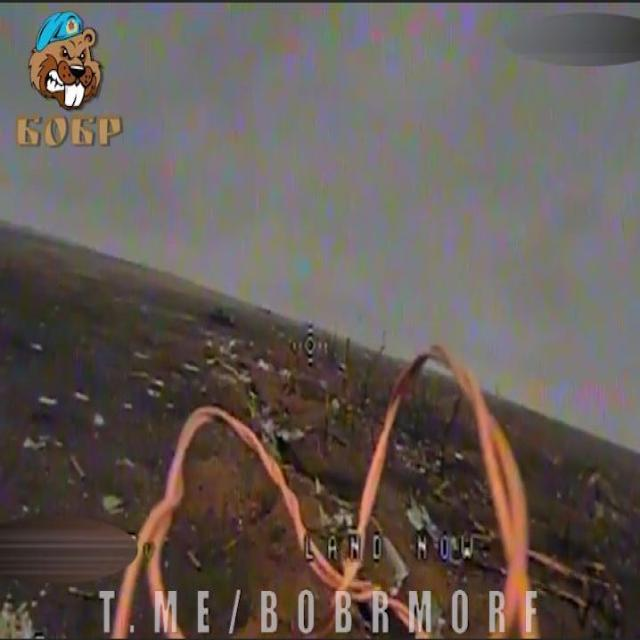fortification: (278, 436, 365, 531), (232, 346, 292, 464), (262, 412, 313, 490), (301, 459, 358, 516), (212, 323, 253, 395)
